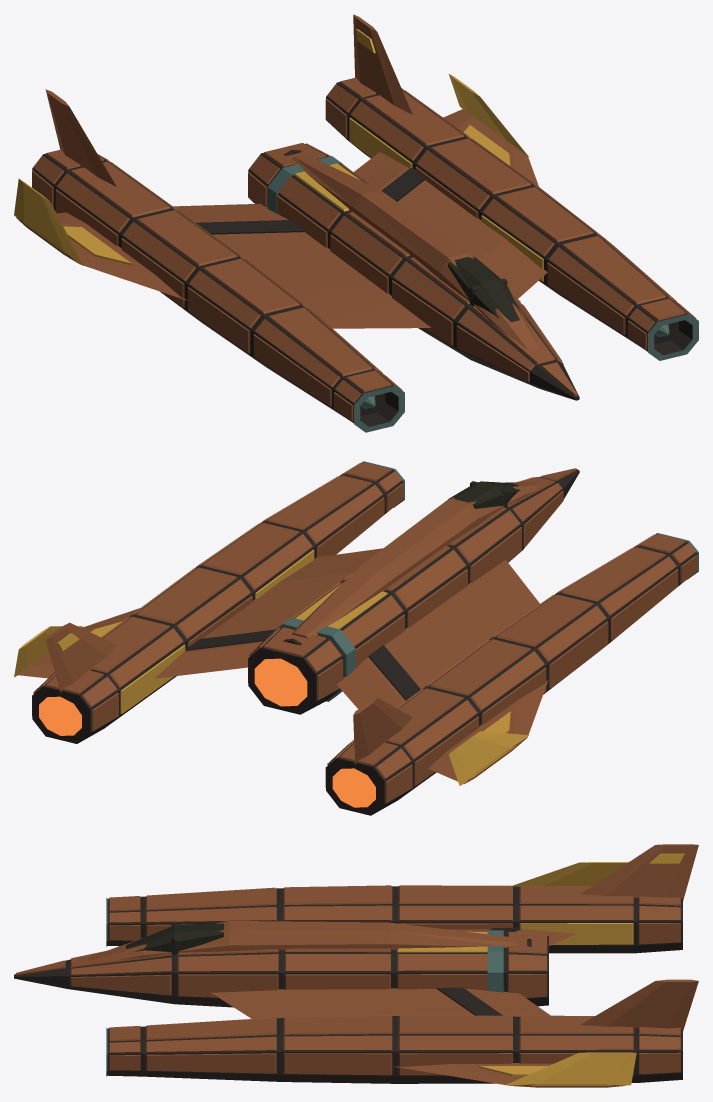
The model's file is pirate_raider.glb.
3 renders of one model, top to bottom at view 1: azimuth 30°, elevation 25°; view 2: azimuth 150°, elevation 25°; view 3: azimuth 270°, elevation 25°, orthographic. The views are drawn at different scales.
Parts seen in each view (by area): view 1: primary, structure, accent, accent2, glass; view 2: primary, structure, accent, engineGlow, accent2, glass; view 3: primary, structure, accent, glass, accent2.
Part boxes in pixels (<box>): primary: <box>16,14,696,421</box>; structure: <box>32,82,692,426</box>; accent: <box>14,29,543,281</box>; accent2: <box>267,156,698,432</box>; glass: <box>448,257,521,322</box>; primary: <box>18,462,697,802</box>; structure: <box>32,466,697,815</box>; accent: <box>14,549,528,785</box>; engineGlow: <box>39,658,375,807</box>; accent2: <box>267,461,698,701</box>; glass: <box>448,481,520,508</box>; primary: <box>16,844,698,1087</box>; structure: <box>14,886,682,1083</box>; accent: <box>397,853,684,1085</box>; glass: <box>126,922,223,954</box>; accent2: <box>106,898,503,1076</box>.
Size of the model in its own units: 8.3 by 1.92 by 12.12.
